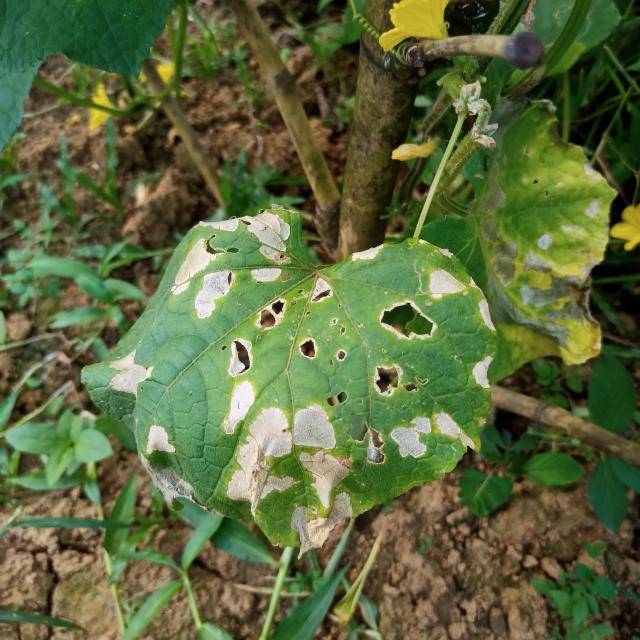disease_cucumber: (111, 214, 488, 545)
